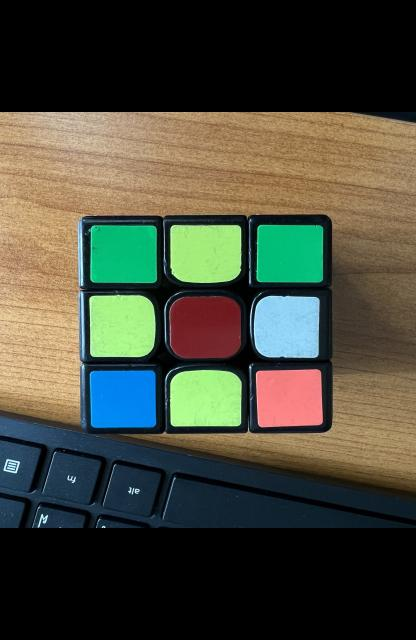Blue: (89, 370, 156, 427)
Green: (89, 226, 157, 283), (256, 225, 323, 282)
Orange: (256, 370, 322, 427)
Red: (168, 296, 240, 359)
White: (253, 296, 319, 358)
Yellow: (169, 225, 240, 283), (88, 295, 154, 357), (169, 370, 240, 426)
